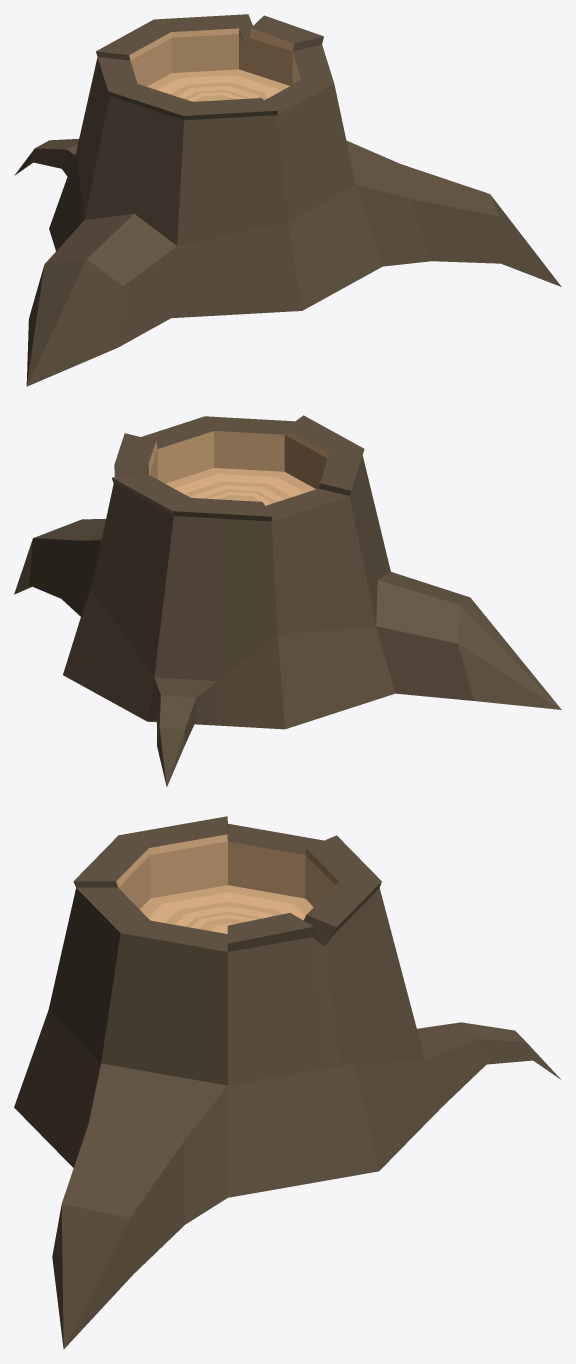
File: stump.glb
3 renders of one model, top to bottom at view 1: azimuth 30°, elevation 25°; view 2: azimuth 150°, elevation 25°; view 3: azimuth 270°, elevation 25°, orthographic. The views are drawn at different scales.
Visible parts, largest first — view 1: Circle; view 2: Circle; view 3: Circle.
Part boxes in pixels (left/top/right/bottom): Circle: left=14, top=14, right=561, bottom=386; Circle: left=14, top=415, right=561, bottom=787; Circle: left=14, top=816, right=560, bottom=1349.
Bounding box in the file's own units: 6.89 × 3.06 × 5.
